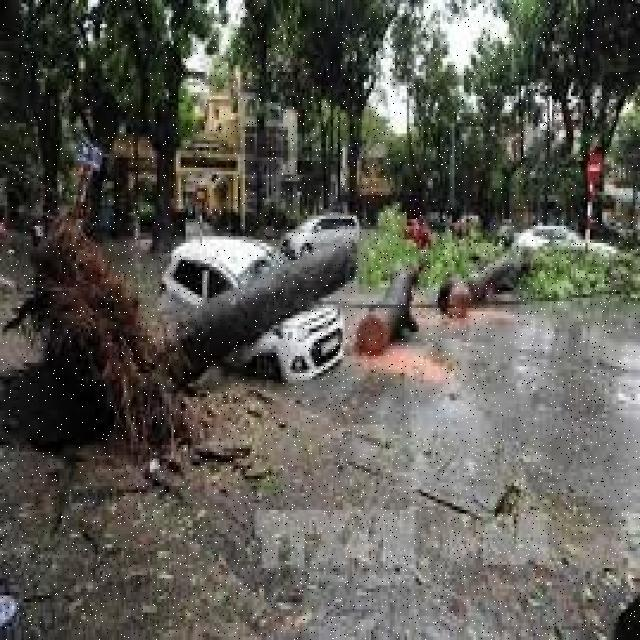fallen_object: (18, 177, 640, 455)
